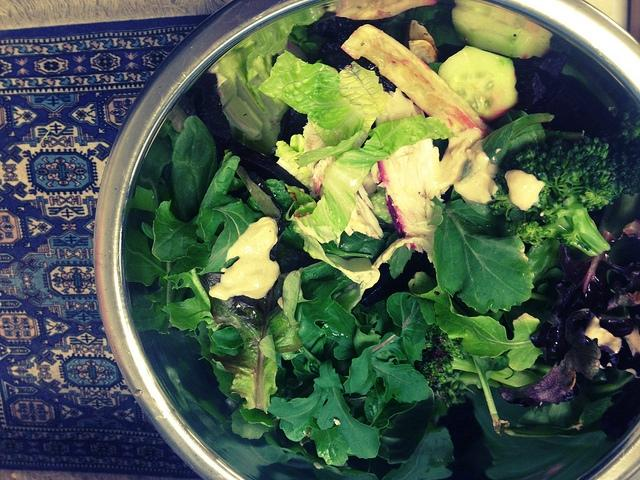broccoli: (489, 132, 623, 256), (413, 324, 542, 406)
cucumber: (438, 45, 518, 124), (451, 5, 553, 59)
lettuce: (284, 114, 460, 244), (428, 196, 534, 315), (409, 285, 544, 371), (450, 113, 554, 203), (268, 384, 380, 460), (196, 198, 266, 276), (523, 335, 602, 404), (338, 60, 393, 150), (172, 117, 219, 222), (377, 386, 434, 464), (372, 291, 431, 361), (294, 278, 348, 350), (218, 36, 264, 113), (547, 396, 614, 430), (344, 194, 384, 240), (338, 230, 392, 264), (163, 242, 213, 277), (265, 306, 302, 352), (311, 426, 348, 467), (248, 28, 291, 60), (278, 261, 336, 283), (193, 205, 227, 242), (282, 267, 303, 326), (489, 367, 544, 388), (208, 328, 244, 356), (368, 186, 393, 224), (371, 377, 404, 403), (276, 140, 304, 159), (368, 329, 382, 338)
